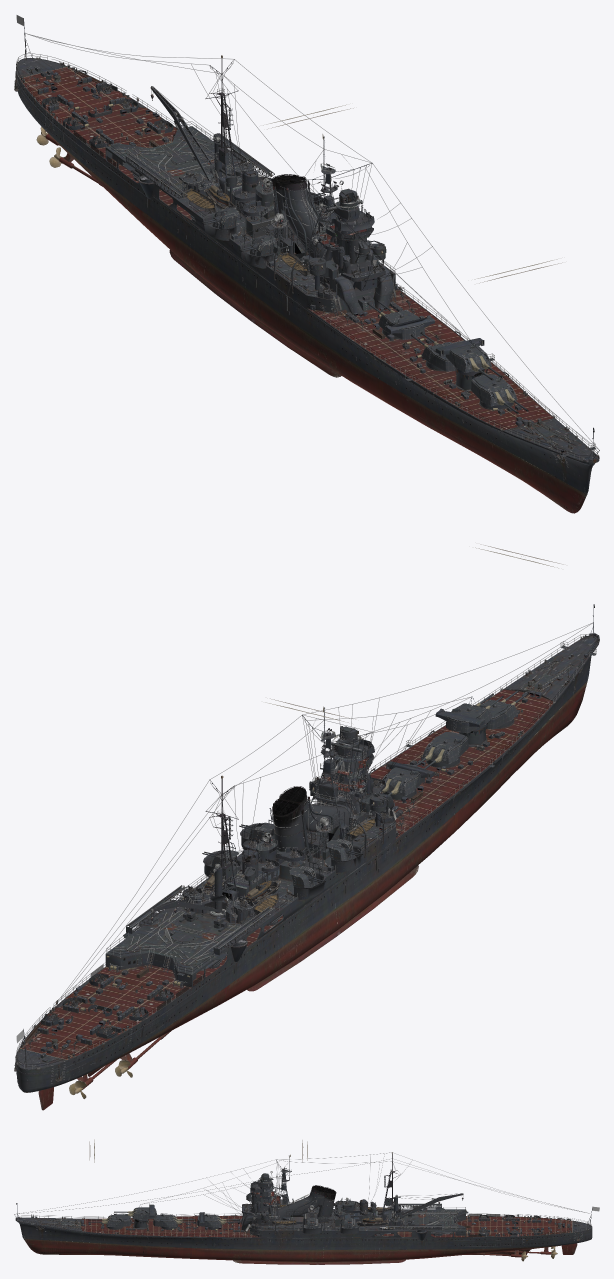
The model's file is ijn_tone_war_thunder-maximum-compressed.glb.
The picture shows the model from 3 angles, top to bottom: view 1: azimuth 30°, elevation 25°; view 2: azimuth 150°, elevation 25°; view 3: azimuth 270°, elevation 25°; orthographic projection. The views are drawn at different scales.
Visible parts, largest first — view 1: Object_22, Object_56, Object_29, Object_16, Object_64, Object_19, Object_84, Object_14, Object_23, Object_18, Object_17, Object_11 (+14 smaller); view 2: Object_22, Object_56, Object_29, Object_16, Object_64, Object_84, Object_14, Object_19, Object_23, Object_12, Object_18, Object_20 (+13 smaller); view 3: Object_22, Object_29, Object_56, Object_16, Object_64, Object_84, Object_14, Object_19, Object_18, Object_20, Object_17, Object_15 (+17 smaller).
Boxes of the visible parts, <box> form: Object_22: <box>16,58,597,494</box>; Object_56: <box>20,67,553,430</box>; Object_29: <box>45,130,586,513</box>; Object_16: <box>105,126,397,315</box>; Object_64: <box>16,33,598,457</box>; Object_19: <box>150,86,434,333</box>; Object_84: <box>16,58,597,461</box>; Object_14: <box>273,181,326,258</box>; Object_23: <box>14,66,595,457</box>; Object_18: <box>216,139,484,355</box>; Object_17: <box>226,108,375,310</box>; Object_11: <box>41,94,362,293</box>; Object_22: <box>15,633,598,1092</box>; Object_56: <box>20,689,552,1059</box>; Object_29: <box>26,681,587,1110</box>; Object_16: <box>105,800,397,987</box>; Object_64: <box>16,622,597,1066</box>; Object_84: <box>16,635,598,1069</box>; Object_14: <box>273,798,350,862</box>; Object_19: <box>150,739,435,922</box>; Object_23: <box>40,645,596,1081</box>; Object_12: <box>37,773,367,1035</box>; Object_18: <box>222,696,484,901</box>; Object_20: <box>126,723,504,955</box>; Object_22: <box>15,1215,592,1250</box>; Object_29: <box>24,1239,577,1264</box>; Object_56: <box>81,1191,572,1237</box>; Object_16: <box>246,1208,468,1240</box>; Object_64: <box>15,1152,591,1236</box>; Object_84: <box>17,1169,591,1232</box>; Object_14: <box>276,1190,335,1224</box>; Object_19: <box>199,1181,463,1225</box>; Object_18: <box>139,1157,394,1230</box>; Object_20: <box>126,1204,441,1232</box>; Object_17: <box>249,1167,385,1229</box>; Object_15: <box>328,1200,377,1226</box>.
Size of the model in its own units: 24.8 by 40.03 by 205.
Materials: 34 (34 with a texture image).
